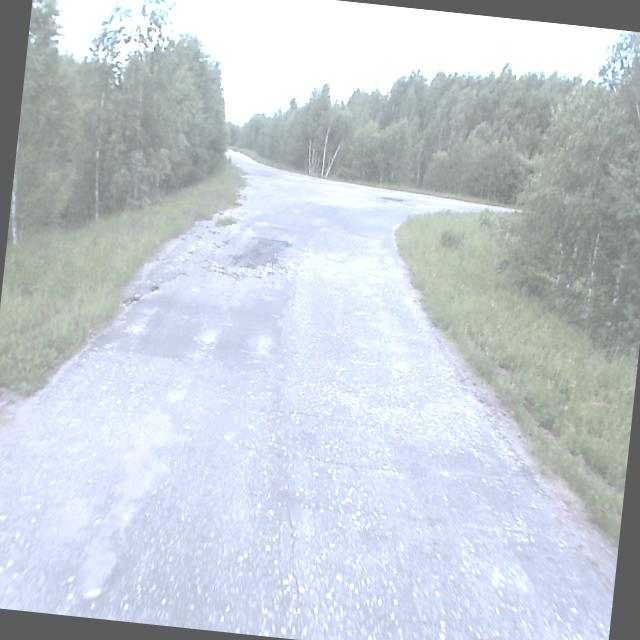road: (0, 150, 613, 640)
